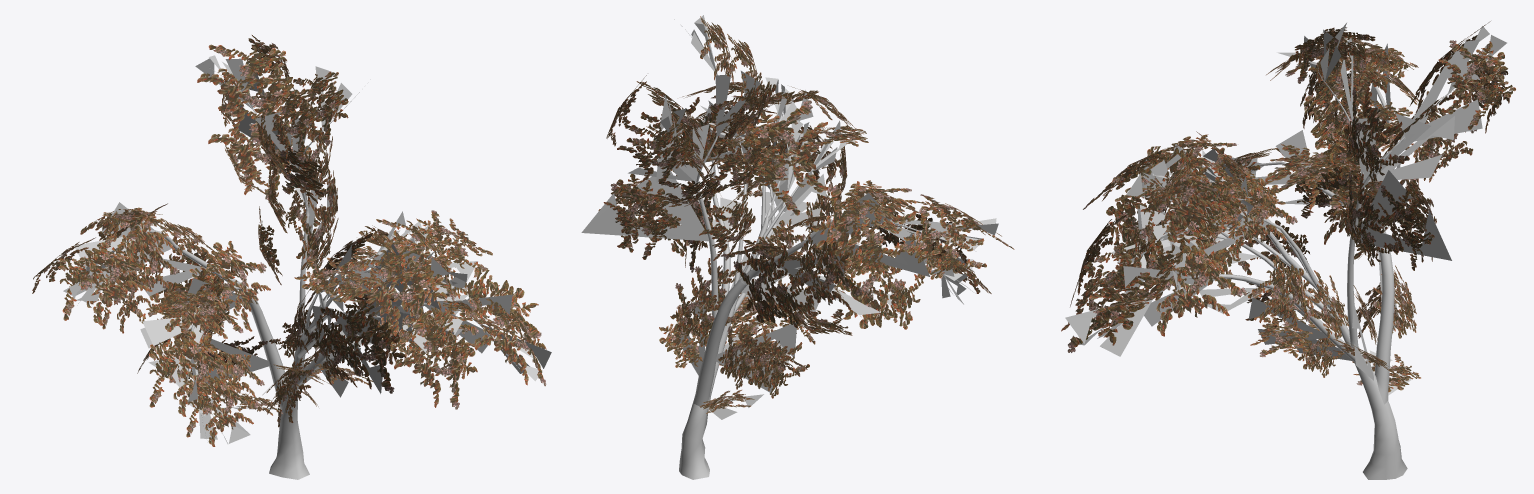
File: tree_elm_02_autumn.DAE
3 renders of one model, left to right at view 1: azimuth 30°, elevation 25°; view 2: azimuth 150°, elevation 25°; view 3: azimuth 270°, elevation 25°, orthographic. The views are drawn at different scales.
Visible parts, largest first — view 1: SOMA_elm_02_AmericanElmLeaves_1, SOMA_elm_02_Branches_03, SOMA_elm_02_AmericanElmLeaves_2, SOMA_elm_02_AmericanElmLeaves_005, SOMA_elm_02_AmericanElmBark, SOMA_elm_02_AmericanElmLeaves_004; view 2: SOMA_elm_02_AmericanElmLeaves_1, SOMA_elm_02_Branches_03, SOMA_elm_02_AmericanElmLeaves_005, SOMA_elm_02_AmericanElmBark, SOMA_elm_02_AmericanElmLeaves_2, SOMA_elm_02_AmericanElmLeaves_004; view 3: SOMA_elm_02_AmericanElmLeaves_1, SOMA_elm_02_Branches_03, SOMA_elm_02_AmericanElmLeaves_2, SOMA_elm_02_AmericanElmLeaves_005, SOMA_elm_02_AmericanElmBark, SOMA_elm_02_AmericanElmLeaves_004.
Boxes of the visible parts, x1,y1,x2,y2 form: SOMA_elm_02_AmericanElmLeaves_1: [32, 35, 546, 446]; SOMA_elm_02_Branches_03: [63, 55, 551, 443]; SOMA_elm_02_AmericanElmLeaves_2: [80, 135, 541, 368]; SOMA_elm_02_AmericanElmLeaves_005: [33, 38, 545, 446]; SOMA_elm_02_AmericanElmBark: [78, 64, 519, 479]; SOMA_elm_02_AmericanElmLeaves_004: [81, 135, 540, 366]; SOMA_elm_02_AmericanElmLeaves_1: [598, 16, 1014, 413]; SOMA_elm_02_Branches_03: [581, 15, 998, 419]; SOMA_elm_02_AmericanElmLeaves_005: [599, 19, 1013, 413]; SOMA_elm_02_AmericanElmBark: [672, 19, 972, 479]; SOMA_elm_02_AmericanElmLeaves_2: [680, 82, 916, 297]; SOMA_elm_02_AmericanElmLeaves_004: [681, 82, 916, 288]; SOMA_elm_02_AmericanElmLeaves_1: [1061, 21, 1515, 392]; SOMA_elm_02_Branches_03: [1065, 23, 1506, 395]; SOMA_elm_02_AmericanElmLeaves_2: [1089, 48, 1418, 313]; SOMA_elm_02_AmericanElmLeaves_005: [1064, 28, 1515, 390]; SOMA_elm_02_AmericanElmBark: [1159, 63, 1454, 479]; SOMA_elm_02_AmericanElmLeaves_004: [1089, 49, 1416, 312].
Size of the model in its own units: 9.39 by 8.96 by 8.12.
